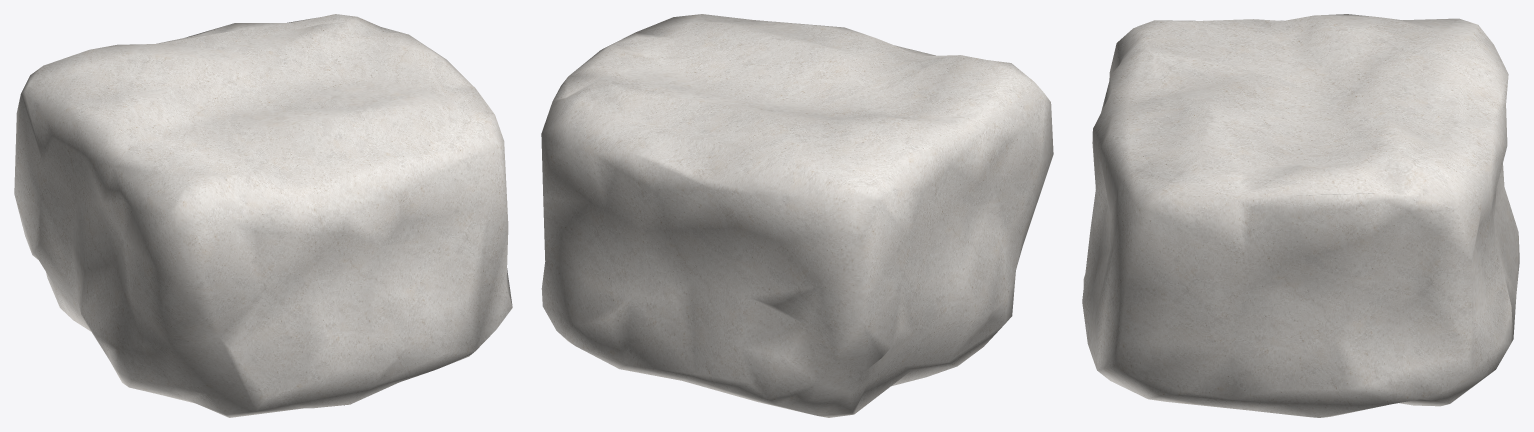
The model's file is LimestoneRock01_WhiteV2.fbx.
The picture shows the model from 3 angles, left to right: view 1: azimuth 30°, elevation 25°; view 2: azimuth 150°, elevation 25°; view 3: azimuth 270°, elevation 25°; orthographic projection. The views are drawn at different scales.
Visible parts, largest first — view 1: LimestoneRock01_LOD0; view 2: LimestoneRock01_LOD0; view 3: LimestoneRock01_LOD0.
Boxes of the visible parts, x1,y1,x2,y2 form: LimestoneRock01_LOD0: [14, 14, 512, 417]; LimestoneRock01_LOD0: [541, 14, 1053, 417]; LimestoneRock01_LOD0: [1082, 14, 1519, 417].
Size of what is drawn, in the model's own units: 2 by 1.32 by 1.97.
1 material, 1 textured.
